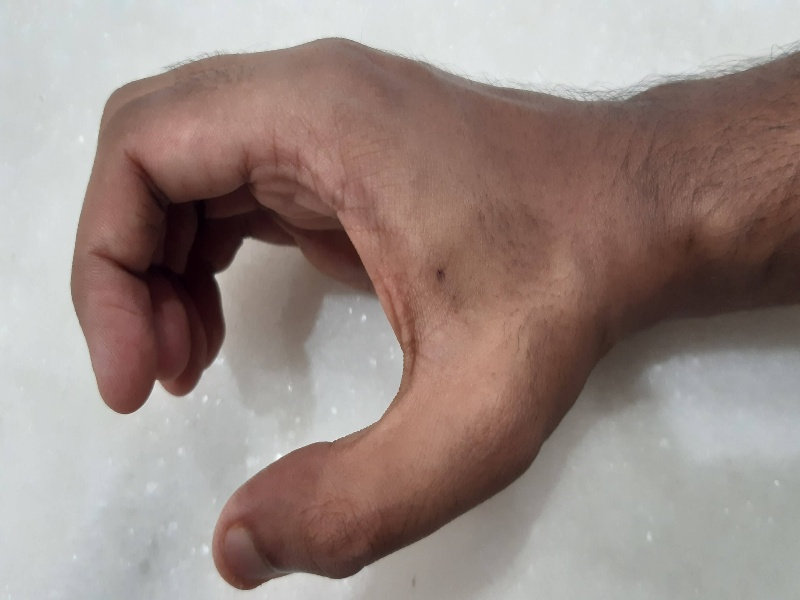one: (64, 24, 604, 591)
